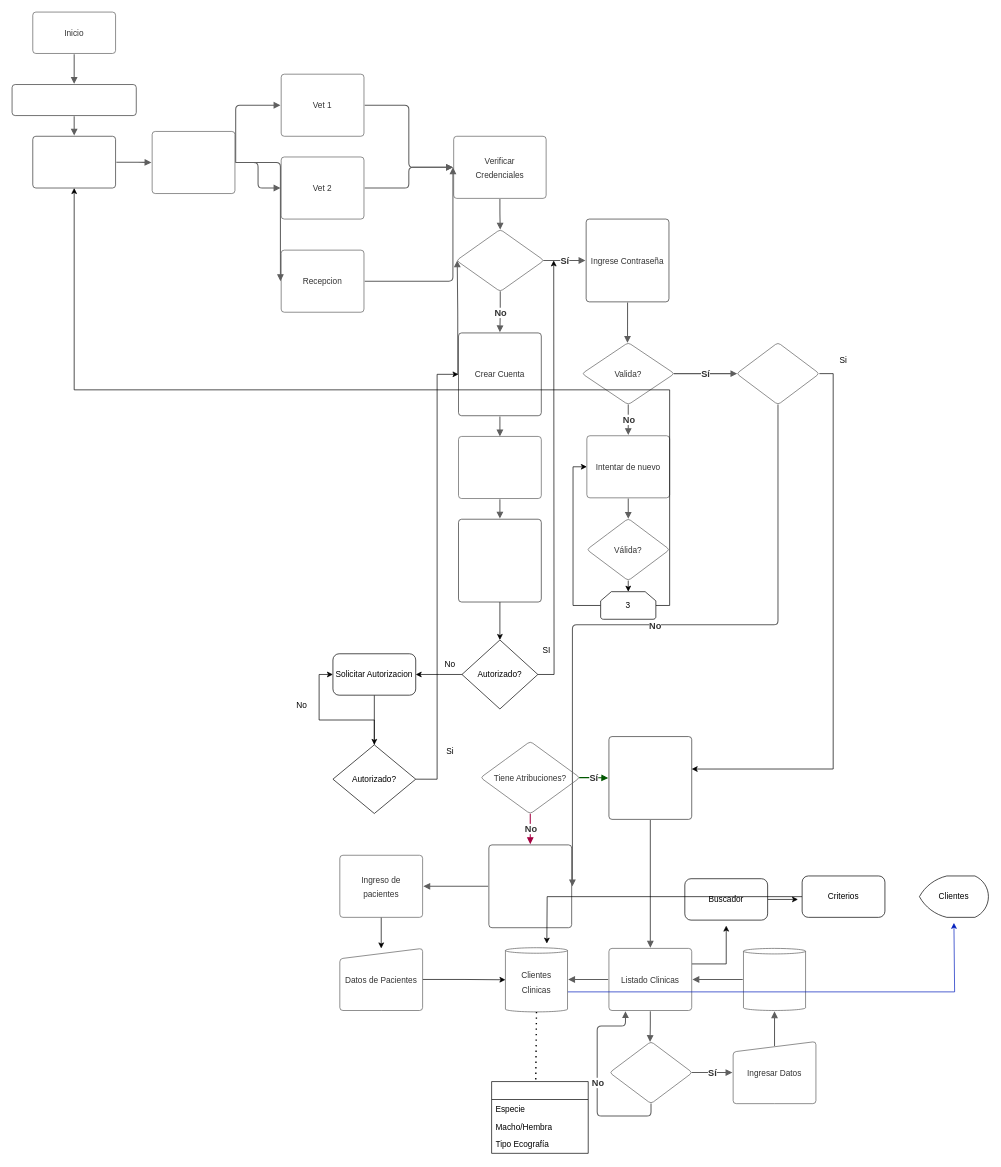
This 1001x1167 diagram has some shape labels left out. The box of each missing label's shape, as (x1, y1, x2, y2) in pixels:
Acceso Basico: (488, 844, 572, 928)
Acceso Ilimitado: (608, 736, 692, 819)
Agregar Clínica: (609, 1041, 692, 1104)
Base de datos Clinica: (743, 948, 806, 1011)
Indique usuario: (151, 131, 235, 194)
Ingrese Correo: (458, 519, 541, 602)
Ingrese Nombre: (458, 436, 541, 499)
inicio de sesion: (32, 136, 116, 188)
Larrain: (491, 1081, 588, 1153)
Pagina Inicio: (11, 84, 136, 116)
Posee Atributos?: (736, 342, 819, 405)
Tiene Cuenta?: (456, 229, 544, 292)
